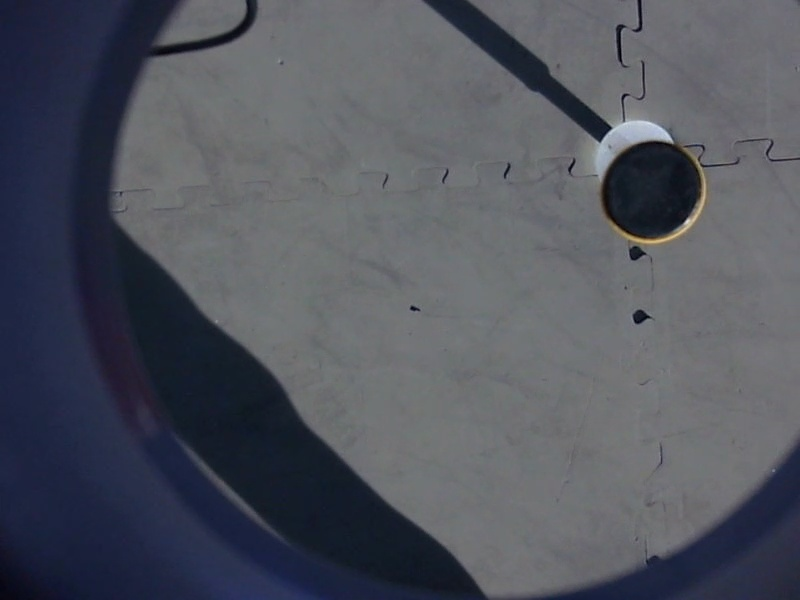tip: (593, 137, 711, 254)
